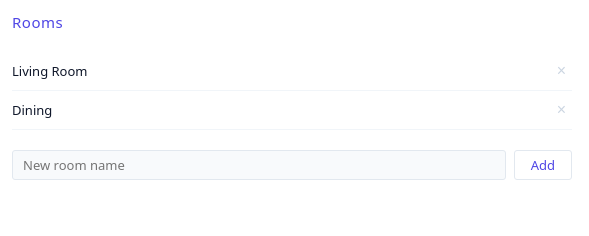
ManageRooms › adds a new room when form submitted
This screenshot has width=589, height=236.
Check: the text "Living Room" is shown, box x1=12 y1=62 x2=88 y2=80
Type "Den" into the field with placeholder "New room name".
click(259, 165); type("Den")  # box x1=12 y1=150 x2=506 y2=180
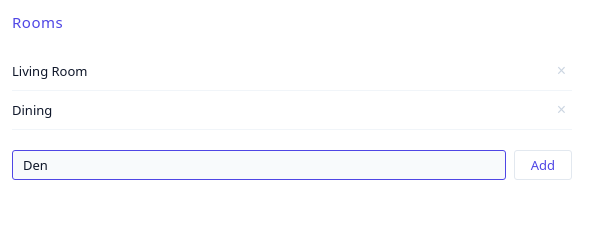
Click the button "Add".
click(543, 165)  # box x1=514 y1=150 x2=572 y2=180
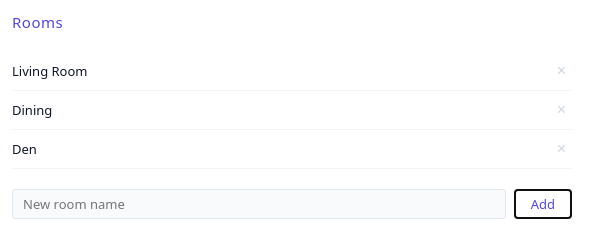
Check: the text "Den" is shown, box x1=12 y1=140 x2=37 y2=158
